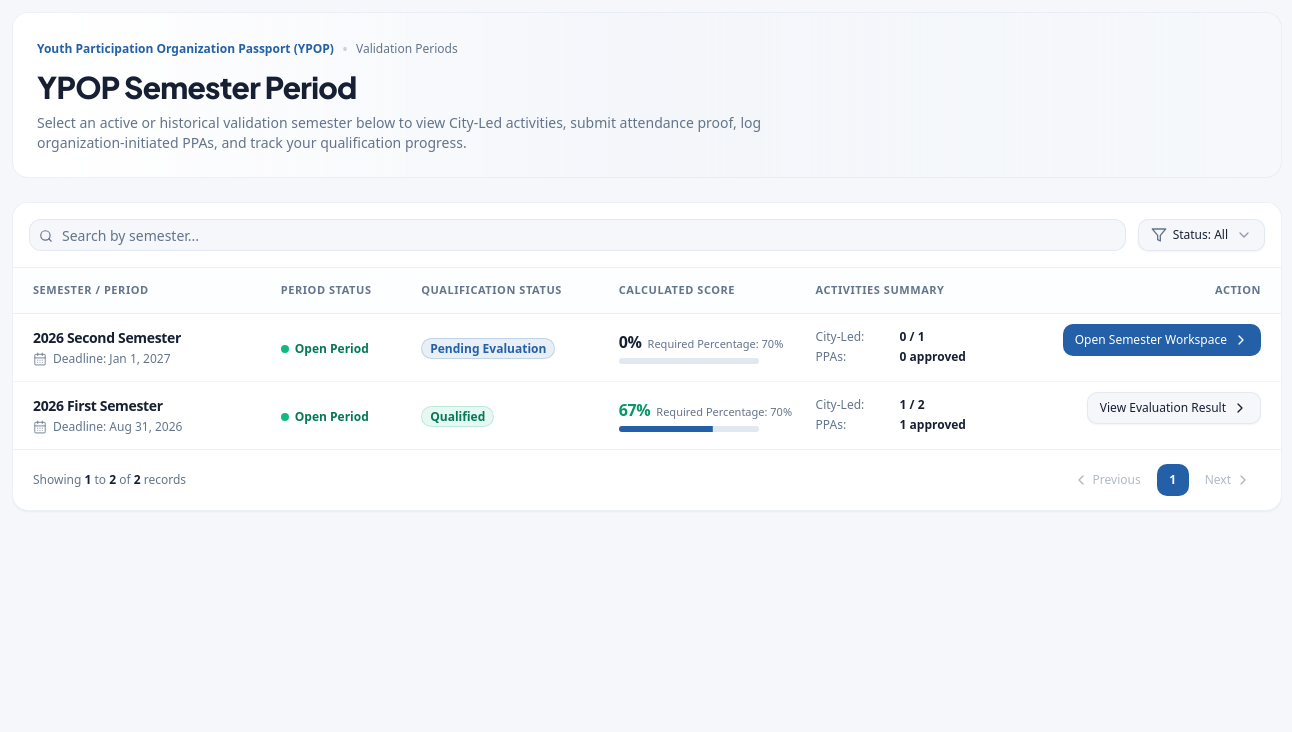
Test: UserPortal YPOP Integration - Admin Configuration & Business Rules › 2 & 3. Selecting a semester filters City-Led activities correctly and excludes other semesters
Click the button "View Evaluation Result" at point(1174, 408), box 1087,392 -> 1261,424
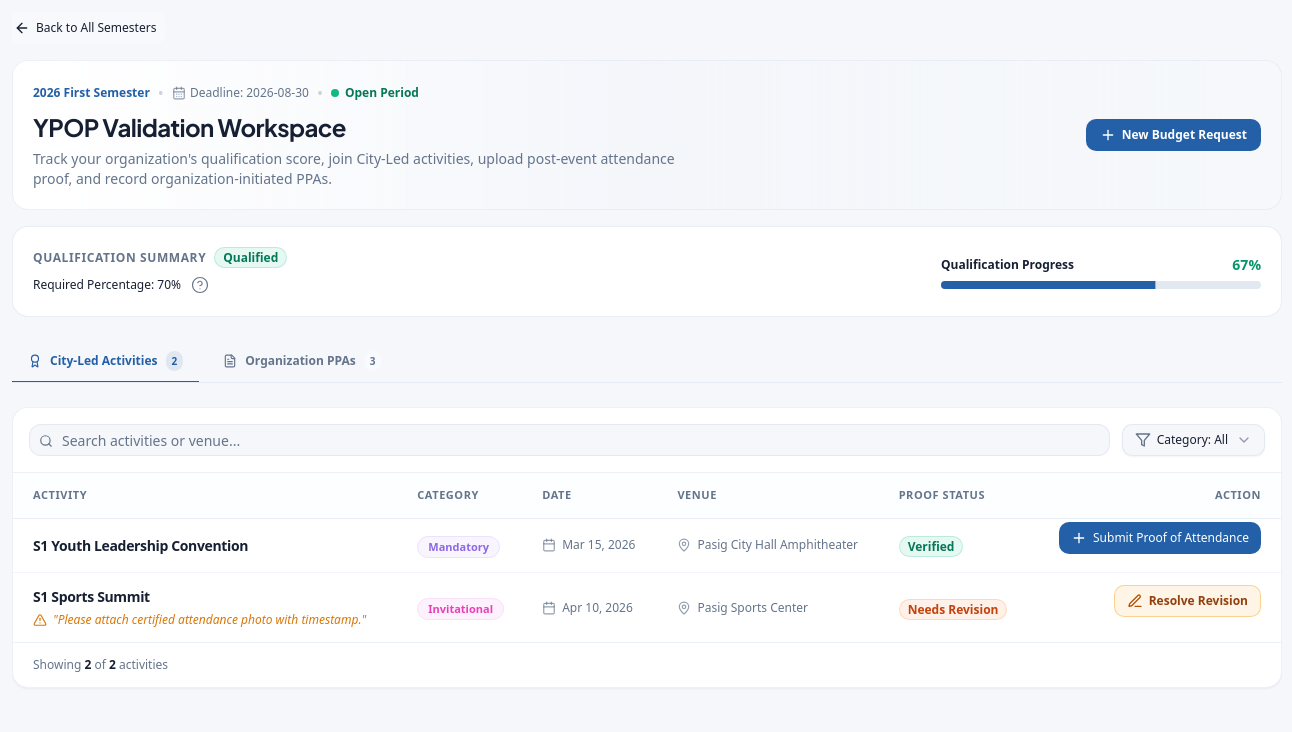
Check: the text "2026 First Semester" is shown, box 33,85 -> 150,101
Check: the text "S1 Youth Leadership Convention" is shown, box 33,536 -> 248,555
Check: the text "S1 Sports Summit" is shown, box 33,587 -> 150,606
